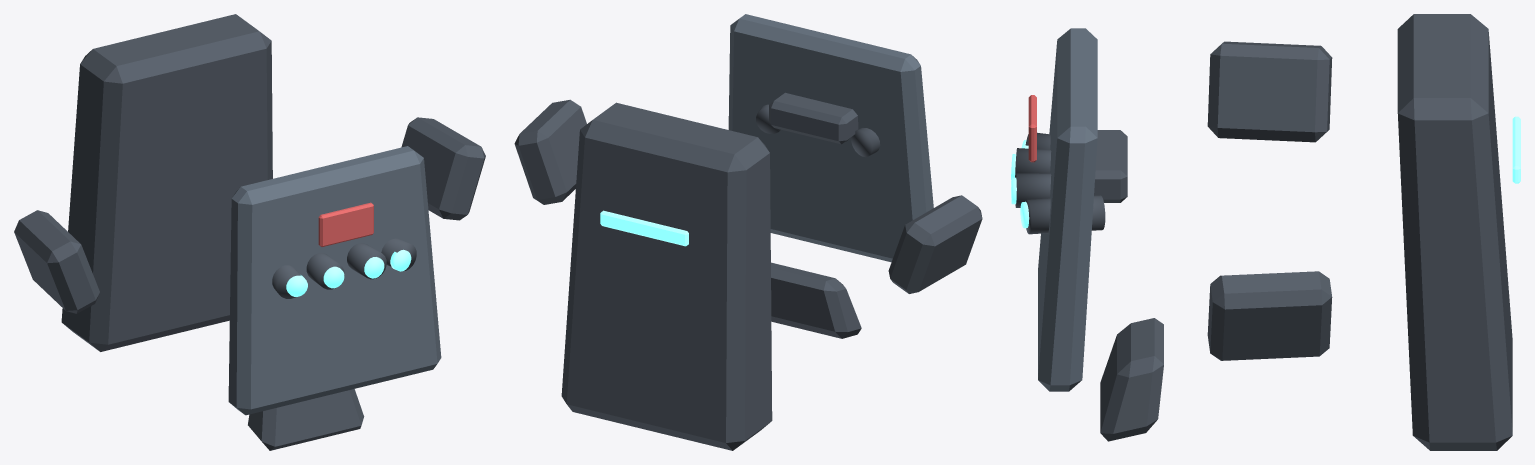
The model's file is hero_player_kit.glb.
The picture shows the model from 3 angles, left to right: view 1: azimuth 30°, elevation 25°; view 2: azimuth 150°, elevation 25°; view 3: azimuth 270°, elevation 25°; orthographic projection. The views are drawn at different scales.
Parts seen in each view (by area): view 1: HydroPack, PlateCore, LowPad_1, LowPad_-1, StealthMask, FlagPatch, QuadTube_2, QuadTube_1, QuadTube_0, QuadTube_3; view 2: HydroPack, PlateCore, LowPad_-1, LowPad_1, StealthMask, NVGMount, PackGlow, QuadTube_0; view 3: HydroPack, PlateCore, LowPad_-1, LowPad_1, StealthMask, NVGMount, QuadTube_3, QuadTube_2, QuadTube_1, FlagPatch, PackGlow.
Boxes of the visible parts, x1=… form: HydroPack: x1=61, y1=14, x2=272, y2=351; PlateCore: x1=228, y1=146, x2=441, y2=415; LowPad_1: x1=401, y1=117, x2=485, y2=220; LowPad_-1: x1=14, y1=210, x2=99, y2=313; StealthMask: x1=248, y1=389, x2=364, y2=450; FlagPatch: x1=318, y1=202, x2=373, y2=246; QuadTube_2: x1=347, y1=243, x2=386, y2=279; QuadTube_1: x1=306, y1=253, x2=344, y2=289; QuadTube_0: x1=272, y1=265, x2=300, y2=298; QuadTube_3: x1=381, y1=238, x2=416, y2=271; HydroPack: x1=561, y1=102, x2=772, y2=450; PlateCore: x1=728, y1=14, x2=933, y2=262; LowPad_-1: x1=888, y1=195, x2=982, y2=293; LowPad_1: x1=514, y1=99, x2=586, y2=204; StealthMask: x1=771, y1=262, x2=861, y2=338; NVGMount: x1=769, y1=92, x2=858, y2=144; PackGlow: x1=600, y1=210, x2=688, y2=246; QuadTube_0: x1=851, y1=128, x2=880, y2=157; HydroPack: x1=1397, y1=14, x2=1512, y2=450; PlateCore: x1=1038, y1=28, x2=1097, y2=391; LowPad_-1: x1=1207, y1=41, x2=1332, y2=142; LowPad_1: x1=1207, y1=271, x2=1332, y2=360; StealthMask: x1=1100, y1=318, x2=1163, y2=441; NVGMount: x1=1094, y1=130, x2=1127, y2=202; QuadTube_3: x1=1026, y1=195, x2=1105, y2=234; QuadTube_2: x1=1015, y1=173, x2=1051, y2=207; QuadTube_1: x1=1015, y1=148, x2=1051, y2=177; FlagPatch: x1=1028, y1=95, x2=1036, y2=162; PackGlow: x1=1512, y1=116, x2=1520, y2=183.
Size of the model in its own units: 0.4375 by 0.2841 by 0.3656.
